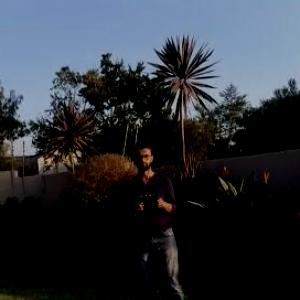follow: (122, 138, 193, 299)
